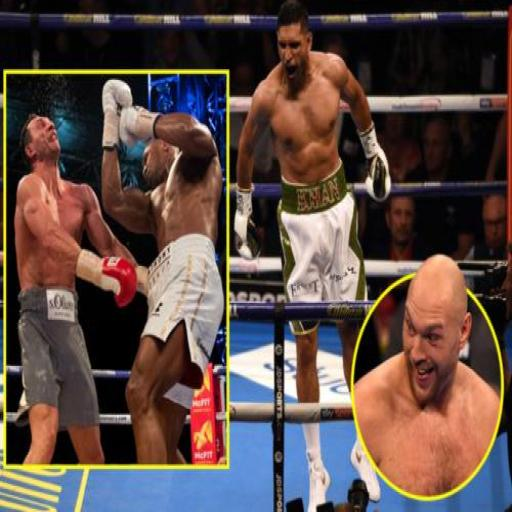boxing: (232, 0, 391, 510), (100, 77, 224, 464)
